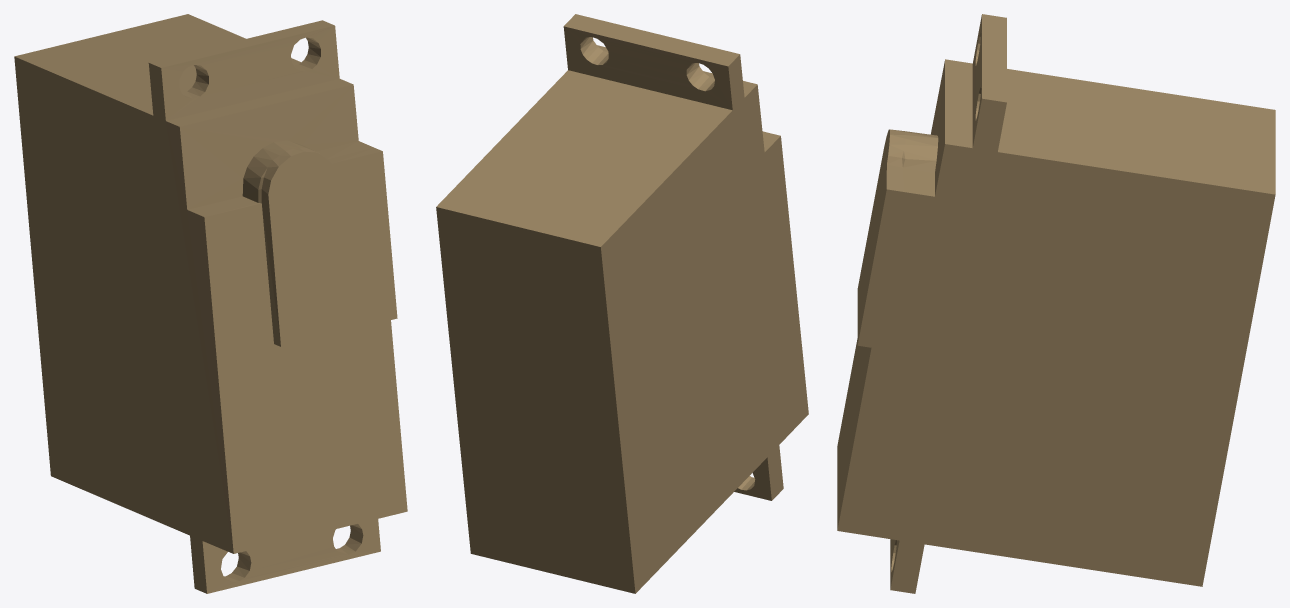
The model's file is right_elbow_x_link_visual_9.obj.full.glb.
3 views of the same model, side by side, from view 1: azimuth 30°, elevation 25°; view 2: azimuth 150°, elevation 25°; view 3: azimuth 270°, elevation 25° (orthographic). The views are drawn at different scales.
Bounding box in the file's own units: 0.2828 × 0.7706 × 0.618.
